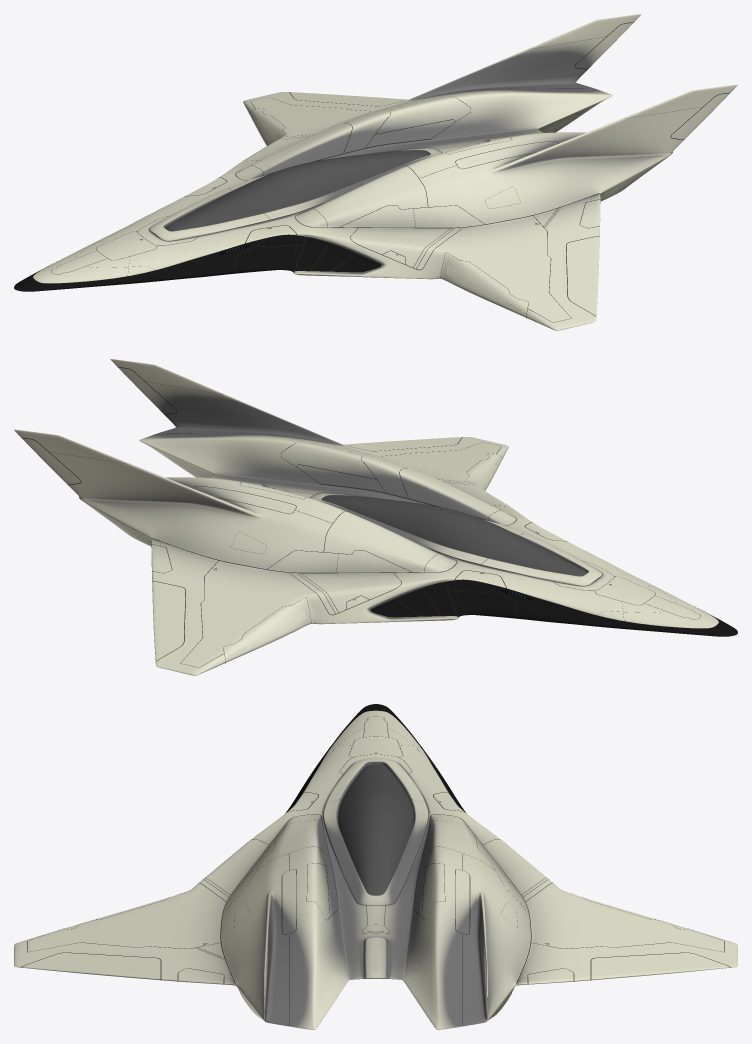
The model's file is space_ship2.glb.
The picture shows the model from 3 angles, top to bottom: view 1: azimuth 30°, elevation 25°; view 2: azimuth 150°, elevation 25°; view 3: azimuth 270°, elevation 25°; orthographic projection. The views are drawn at different scales.
Parts seen in each view (by area): view 1: Jet_32, Canopy_33, Space Jet Atlas_1; view 2: Jet_32, Canopy_33, Space Jet Atlas_1; view 3: Jet_32, Canopy_33, Space Jet Atlas_1.
Part boxes in pixels (x1,y1,x2,y2): Jet_32: [14, 14, 737, 330]; Canopy_33: [165, 150, 430, 231]; Space Jet Atlas_1: [51, 22, 730, 322]; Jet_32: [14, 359, 737, 675]; Canopy_33: [321, 495, 586, 576]; Space Jet Atlas_1: [21, 367, 700, 667]; Jet_32: [14, 704, 737, 1029]; Canopy_33: [338, 764, 413, 895]; Space Jet Atlas_1: [21, 716, 730, 1025].
Bounding box in the file's own units: 15.87 × 2.38 × 12.78.
5 materials, 2 textured.
